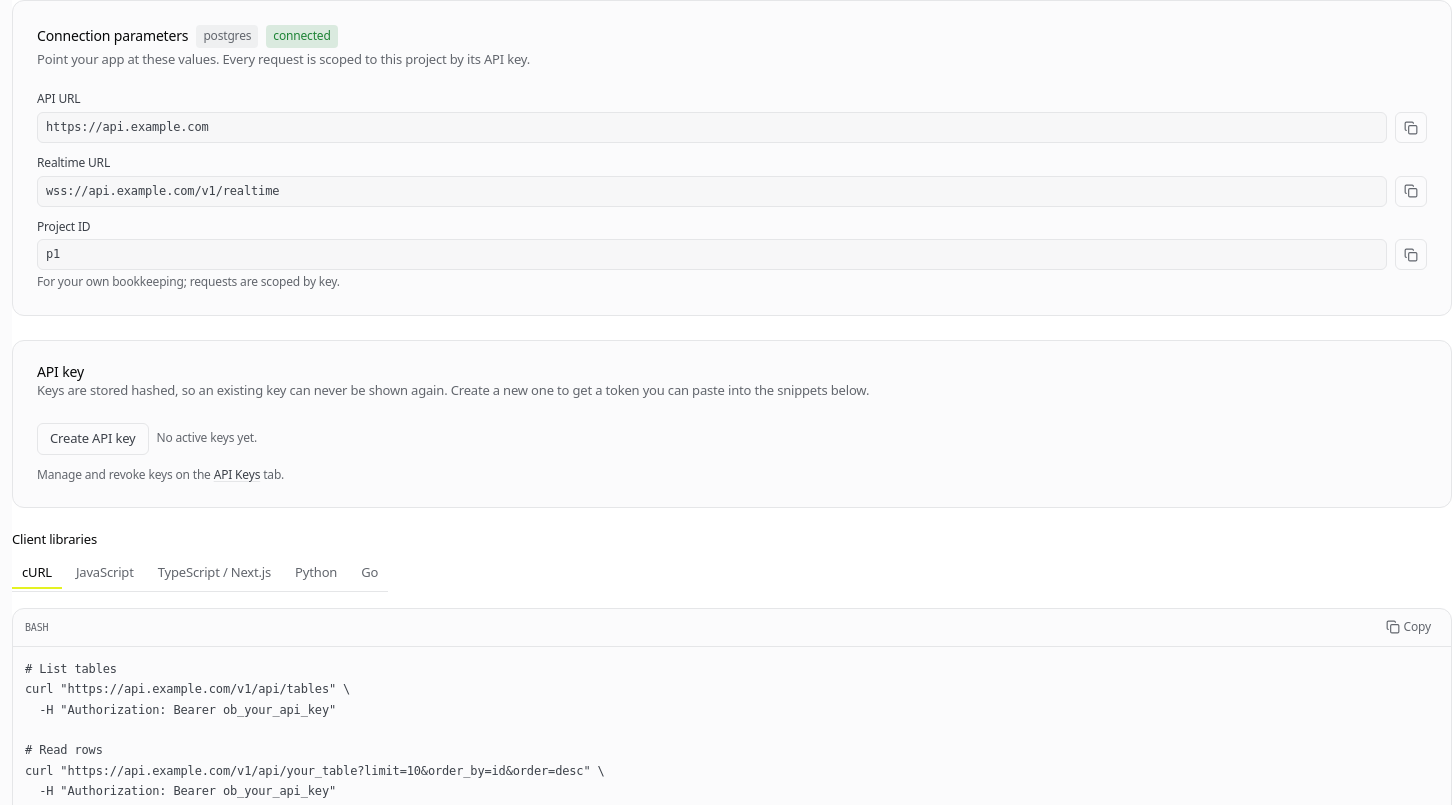
Test: ConnectPanel › switches between language snippets
Expected: the tab "cURL" is shown, [12,559,62,589]
Click the tab "Python". click: (316, 574)
box: [285,559,347,589]
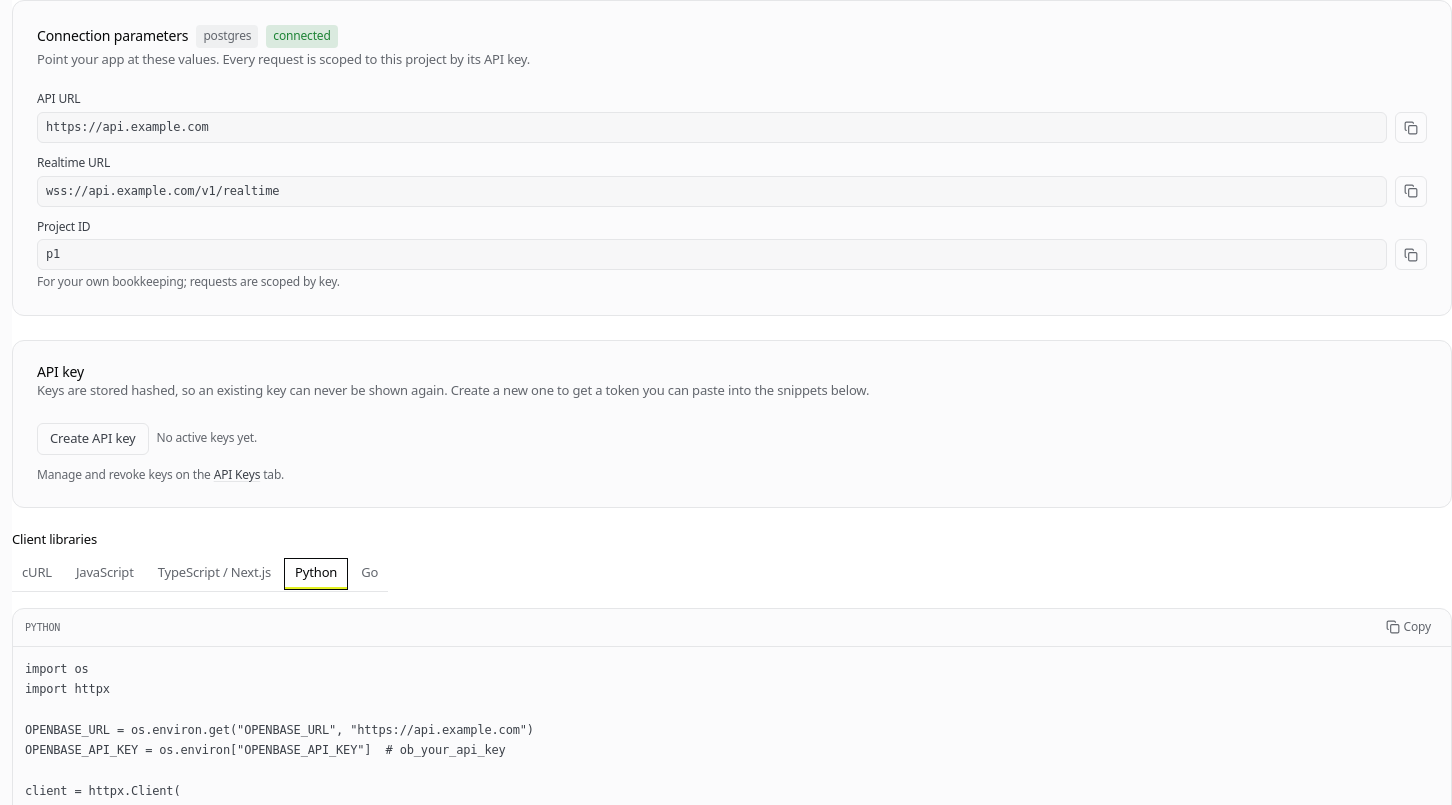
Click the tab "Go". click: (370, 574)
box: [351,559,388,589]
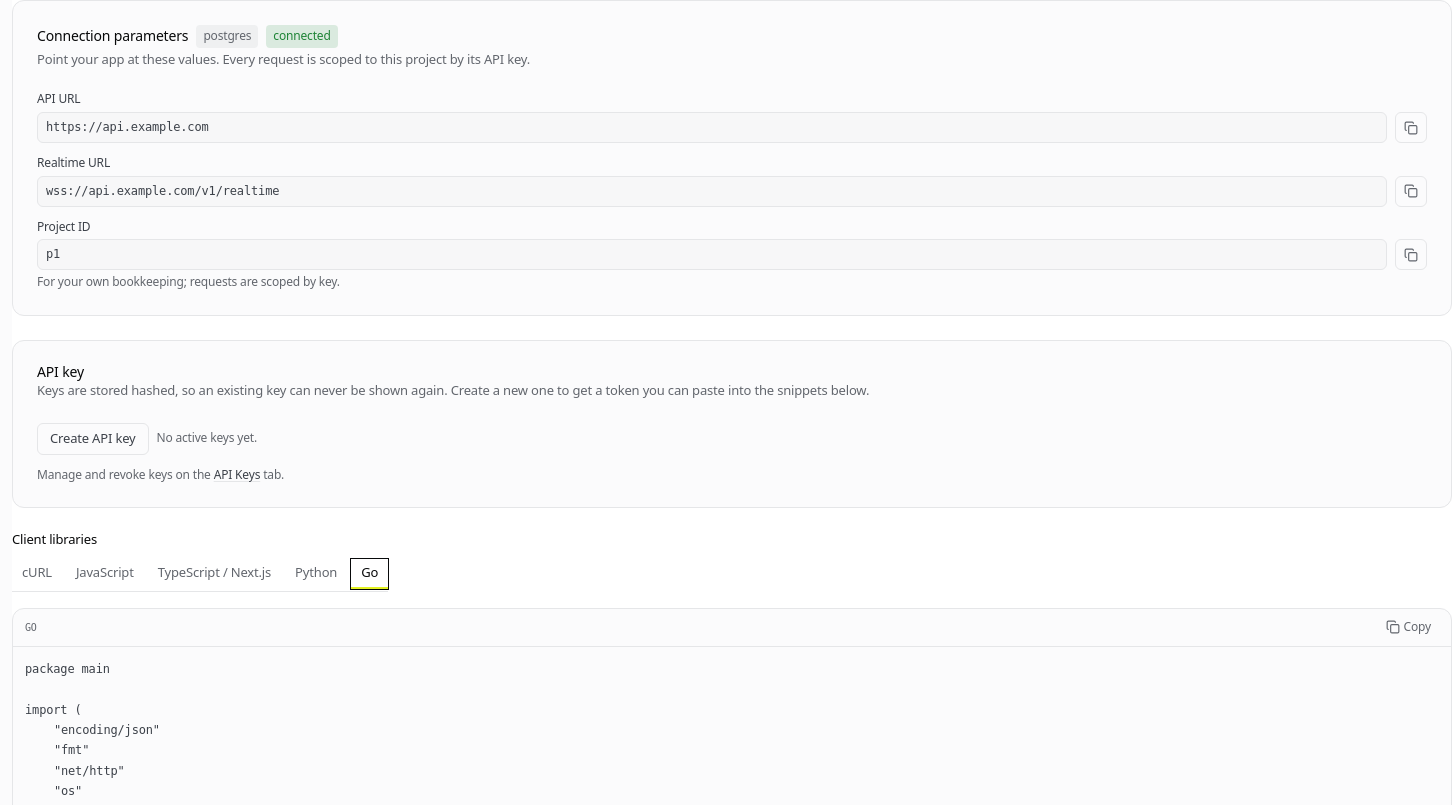
Click the tab "TypeScript / Next.js". click: (214, 574)
box: [148,559,281,589]
(page scrolled)
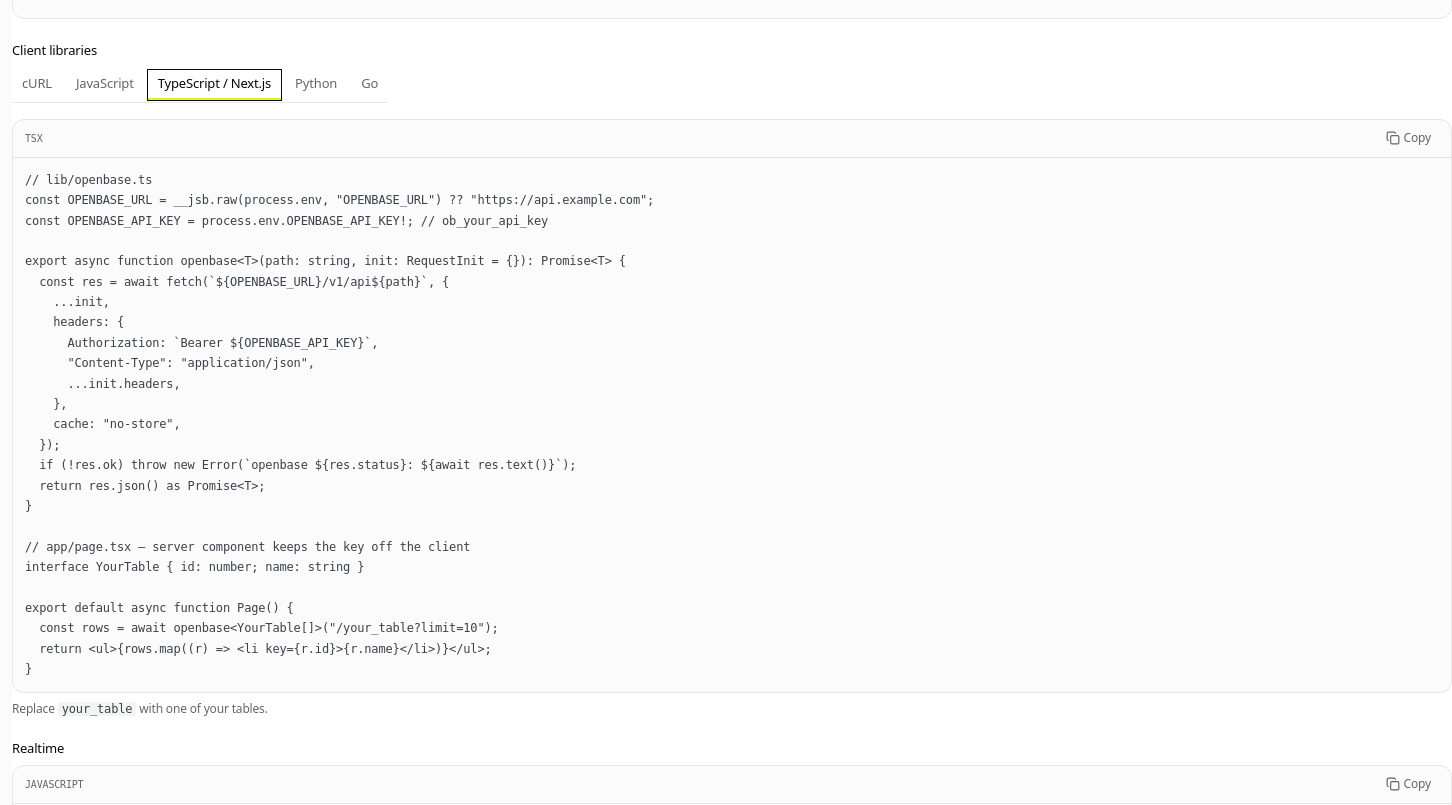
Result: the panel shows "lib/openbase.ts" at [25,173,654,676]
